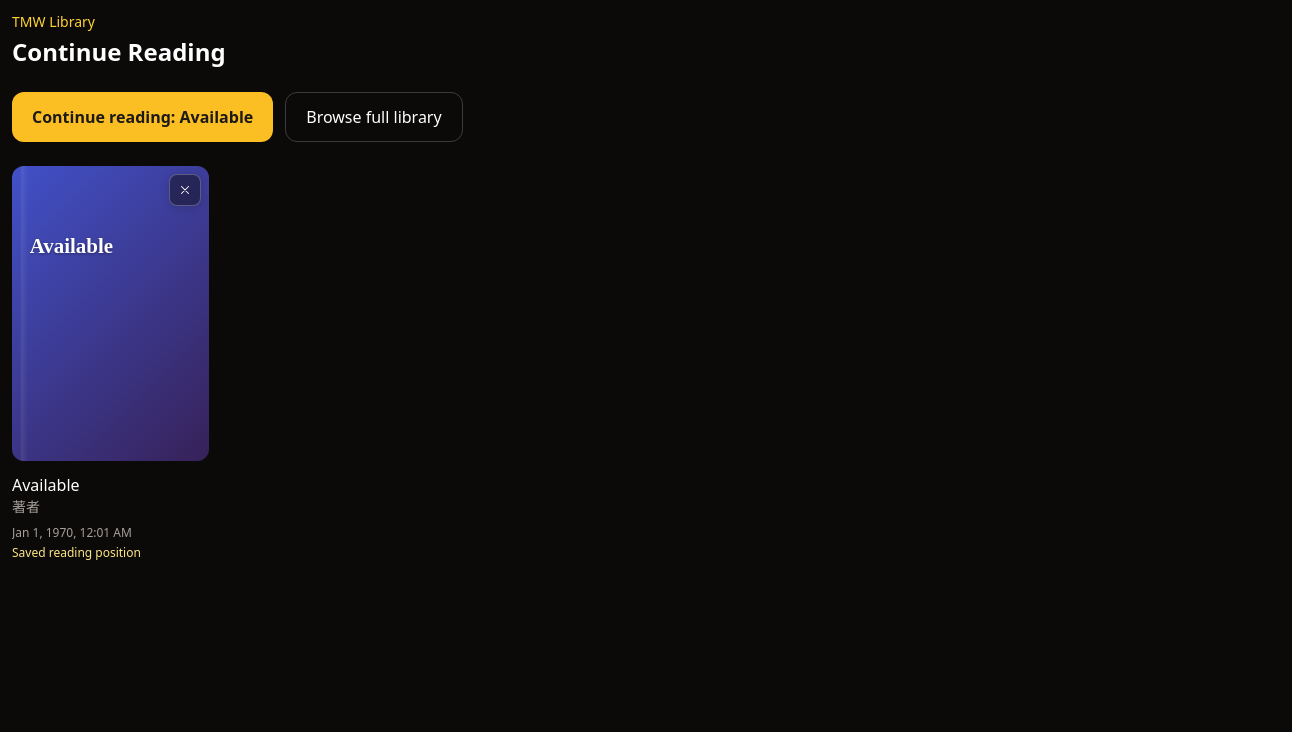
it: ContinueReading › removes a recent book and refreshes the primary candidate
The width and height of the screenshot is (1292, 732).
Click the button named "Remove from recently read: Available": click(185, 190) [169,174,201,206]
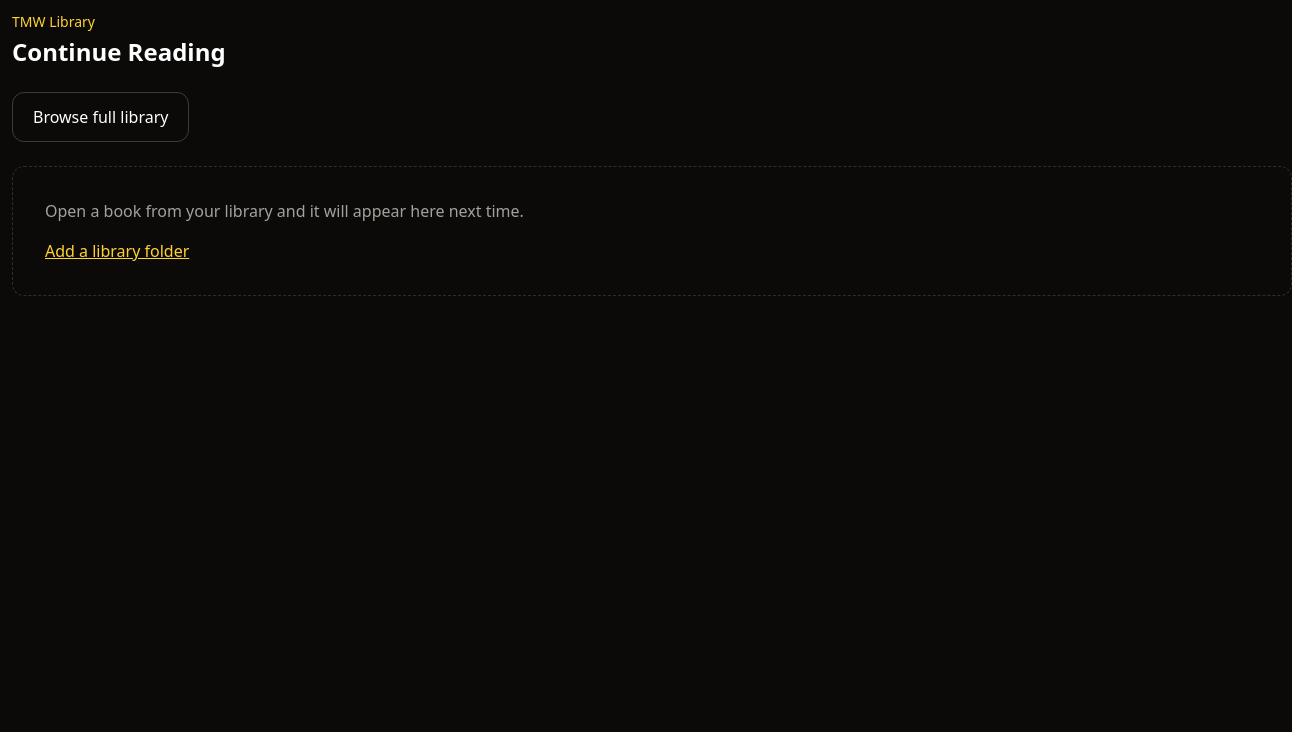
Result: the text "Open a book from your library and it will appear here next time." is shown at [45,200,524,222]
Result: the button "Continue reading: Available" is gone
